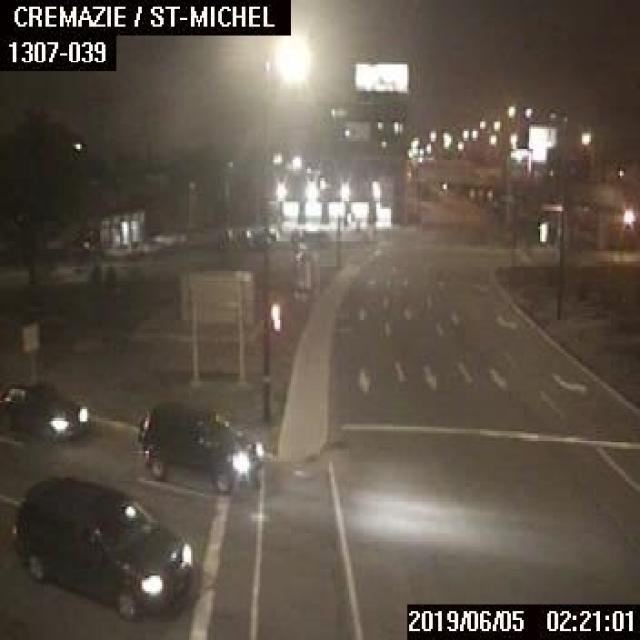vehicle: (11, 469, 196, 620), (138, 400, 264, 496), (0, 380, 87, 438)
